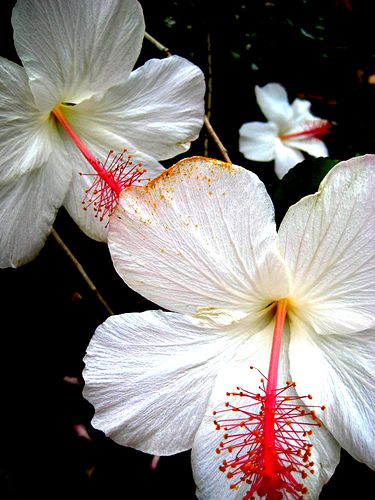Hibiscus: (82, 161, 375, 500), (1, 1, 202, 256), (240, 74, 340, 190)
